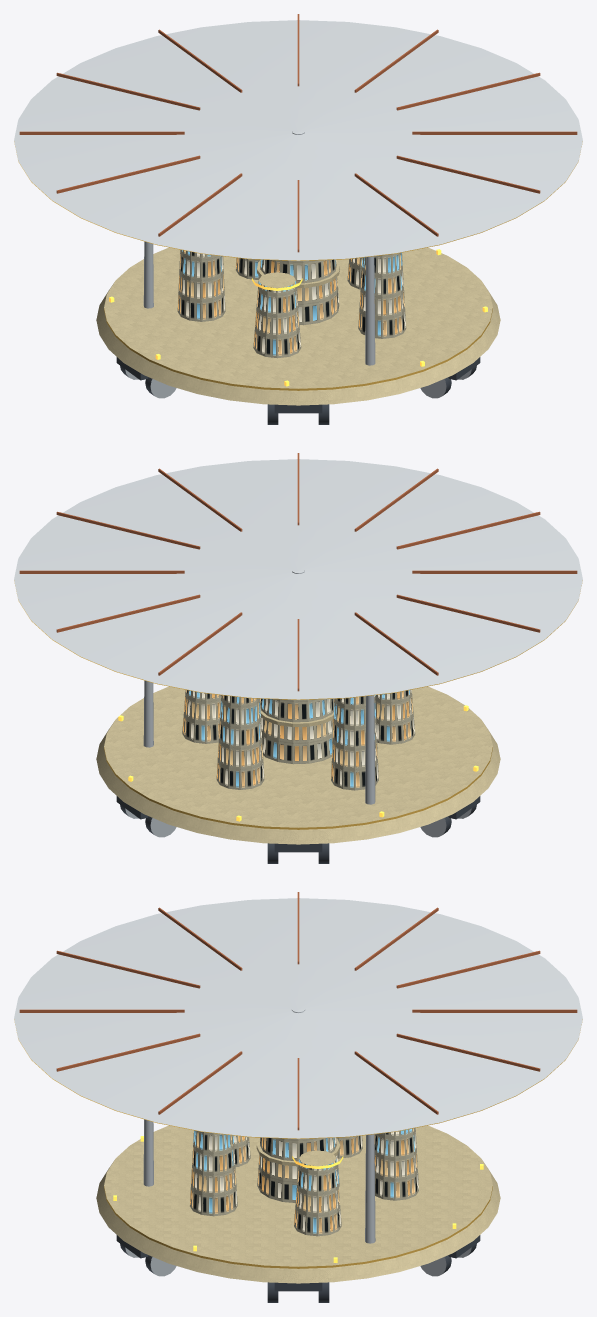
File: mercury_crawler_town.glb
3 renders of one model, top to bottom at view 1: azimuth 30°, elevation 25°; view 2: azimuth 150°, elevation 25°; view 3: azimuth 270°, elevation 25°, orthographic.
Visible parts, largest first — view 1: mercury_crawler_town_LOD0; view 2: mercury_crawler_town_LOD0; view 3: mercury_crawler_town_LOD0.
Boxes of the visible parts, x1=… form: mercury_crawler_town_LOD0: x1=14, y1=14, x2=582, y2=424; mercury_crawler_town_LOD0: x1=14, y1=453, x2=582, y2=863; mercury_crawler_town_LOD0: x1=14, y1=892, x2=582, y2=1302.
Size of what is drawn, in the model's own units: 76 by 32.3 by 76.
Materials: 3 (3 with a texture image).
